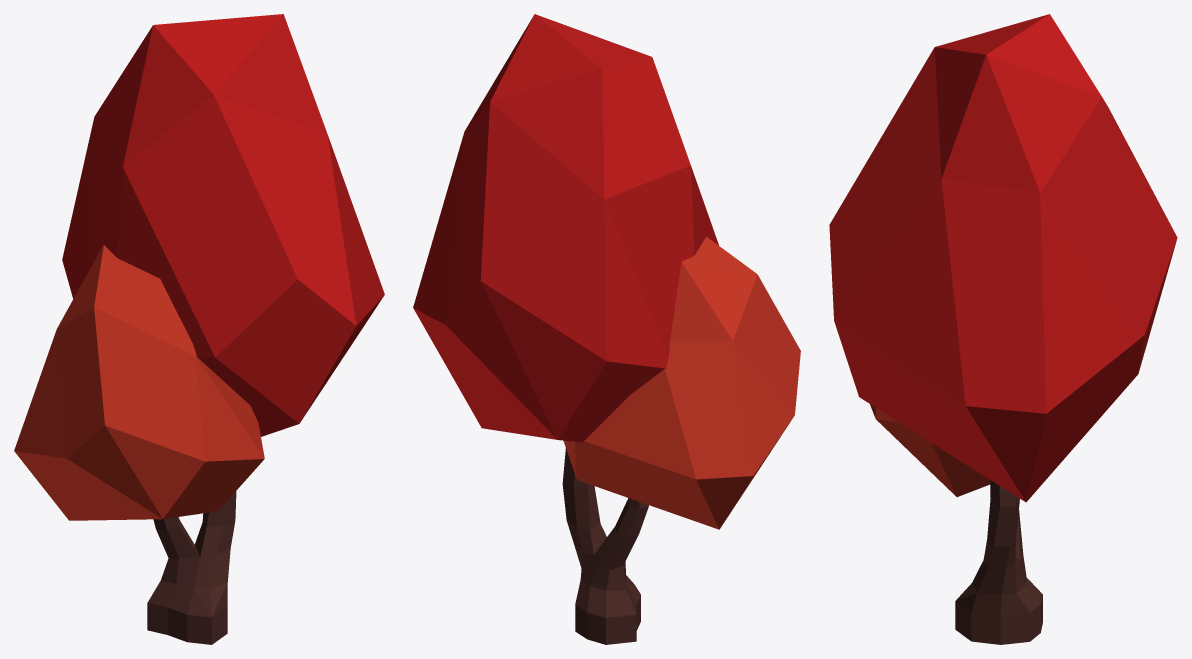
File: tree_4.fbx
3 views of the same model, side by side, from view 1: azimuth 30°, elevation 25°; view 2: azimuth 150°, elevation 25°; view 3: azimuth 270°, elevation 25° (orthographic). The views are drawn at different scales.
Visible parts, largest first — view 1: tree_4; view 2: tree_4; view 3: tree_4.
Part boxes in pixels (x1,y1,x2,y2): tree_4: [14, 14, 384, 644]; tree_4: [413, 14, 800, 644]; tree_4: [829, 14, 1177, 644].
Size of the model in its own units: 324 by 544 by 277.
